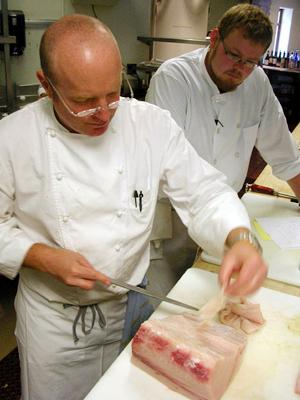person: (2, 12, 268, 400)
